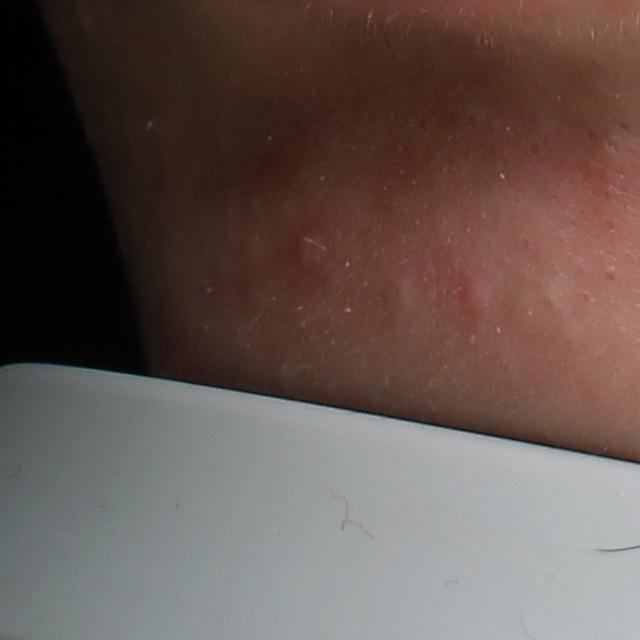comedo: (389, 275, 413, 306), (540, 293, 560, 314), (603, 265, 617, 284)
papule: (274, 220, 340, 306)
